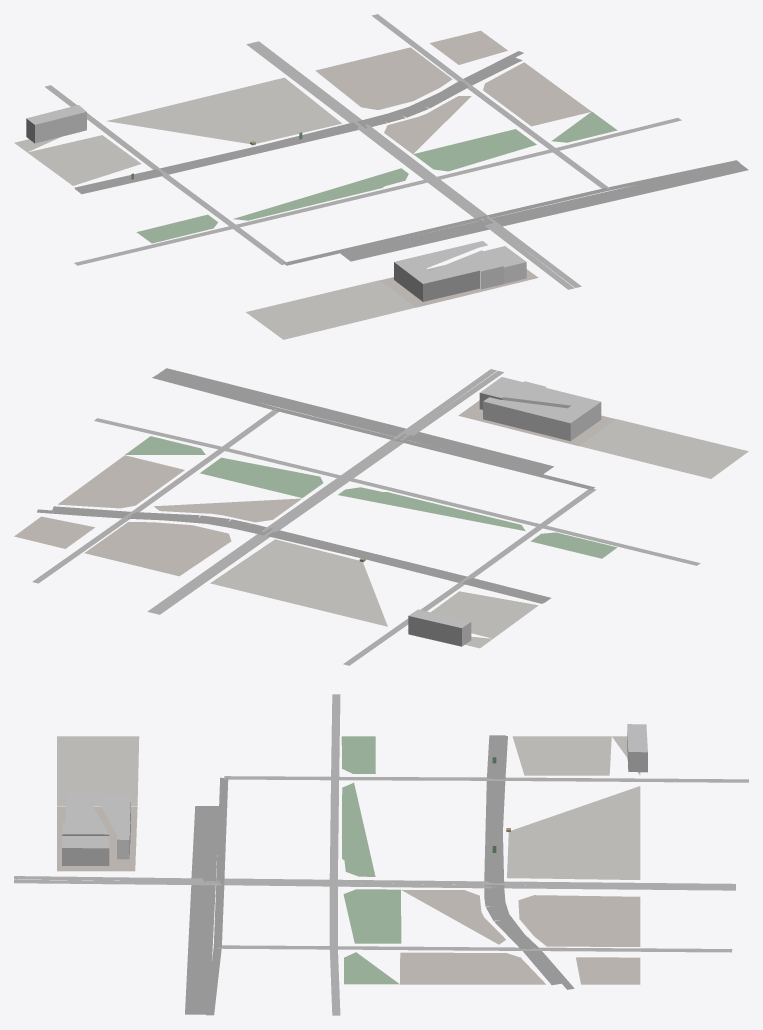
3 renders of one model, top to bottom at view 1: azimuth 30°, elevation 25°; view 2: azimuth 150°, elevation 25°; view 3: azimuth 270°, elevation 25°, orthographic. The views are drawn at different scales.
Bounding box in the file's own units: 647 × 20.85 × 630.
